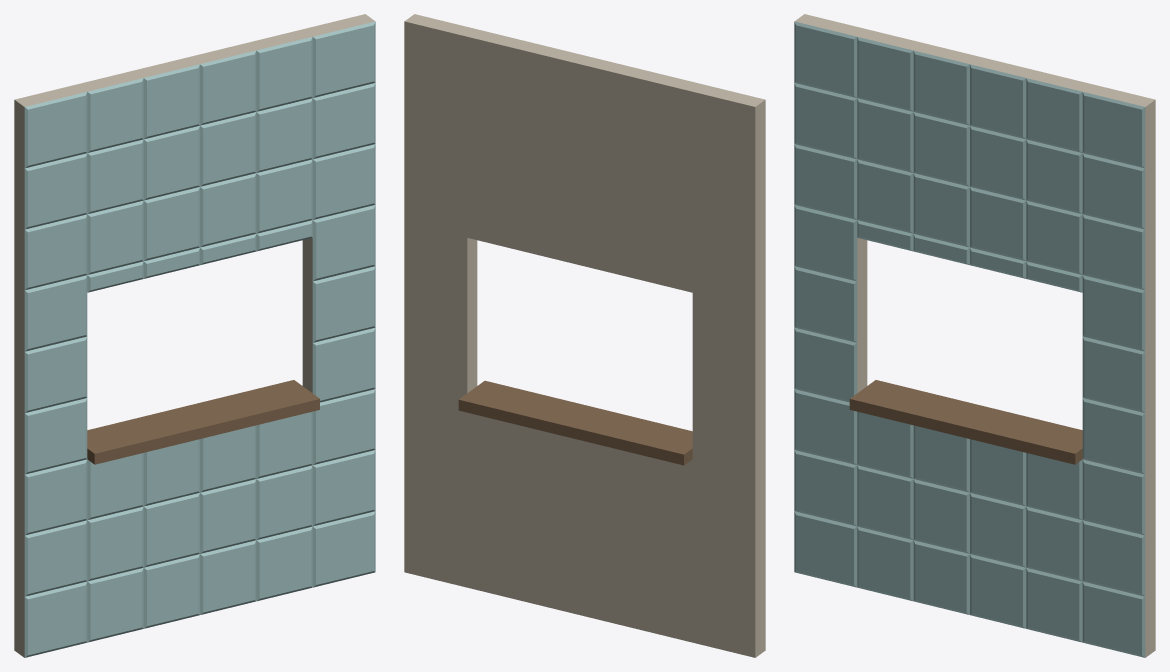
File: Mesh_WallCeramic_E2.fbx
3 renders of one model, left to right at view 1: azimuth 30°, elevation 25°; view 2: azimuth 150°, elevation 25°; view 3: azimuth 330°, elevation 25°, orthographic.
Parts seen in each view (by area): view 1: Mesh_WallCeramic_E2; view 2: Mesh_WallCeramic_E2; view 3: Mesh_WallCeramic_E2.
Part boxes in pixels (x1,y1,x2,y2): Mesh_WallCeramic_E2: [14, 14, 375, 657]; Mesh_WallCeramic_E2: [404, 14, 765, 657]; Mesh_WallCeramic_E2: [794, 14, 1155, 657].
Size of the model in its own units: 2 by 3 by 0.2574.
